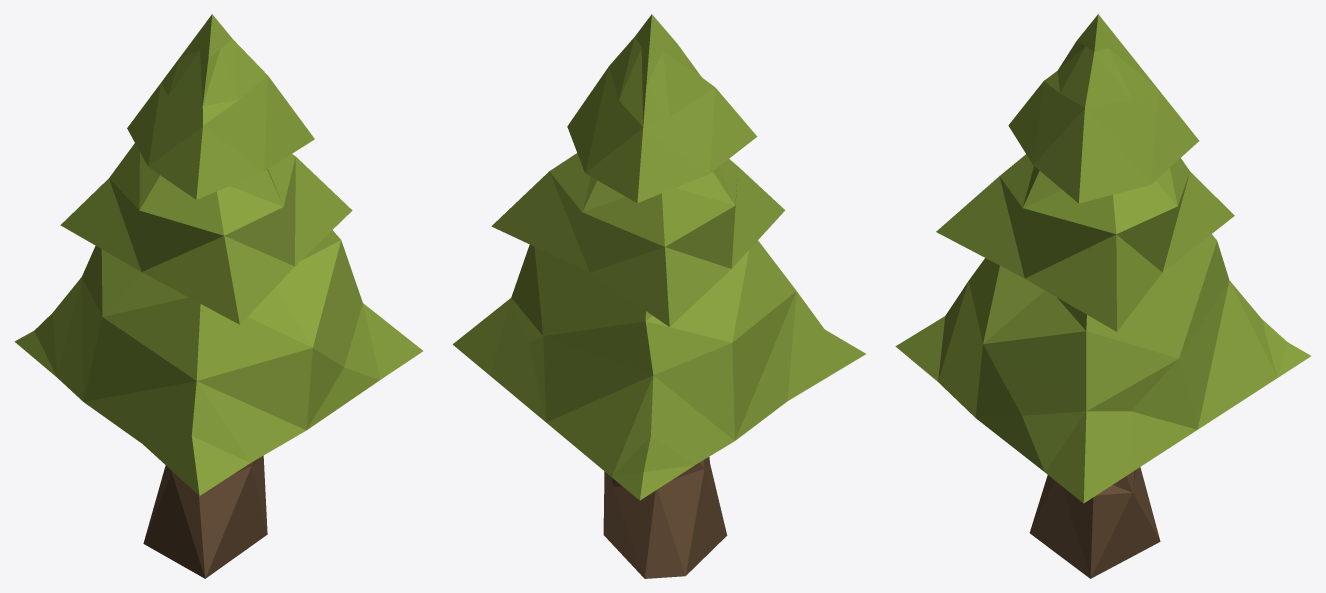
Rendered from Tree2.fbx.
3 views of the same model, side by side, from view 1: azimuth 30°, elevation 25°; view 2: azimuth 150°, elevation 25°; view 3: azimuth 270°, elevation 25° (orthographic).
Visible parts, largest first — view 1: Tree2; view 2: Tree2; view 3: Tree2.
Part boxes in pixels (x1,y1,x2,y2): Tree2: [14, 14, 422, 578]; Tree2: [453, 14, 865, 578]; Tree2: [895, 14, 1310, 578].
Bounding box in the file's own units: 158 × 252 × 177.
